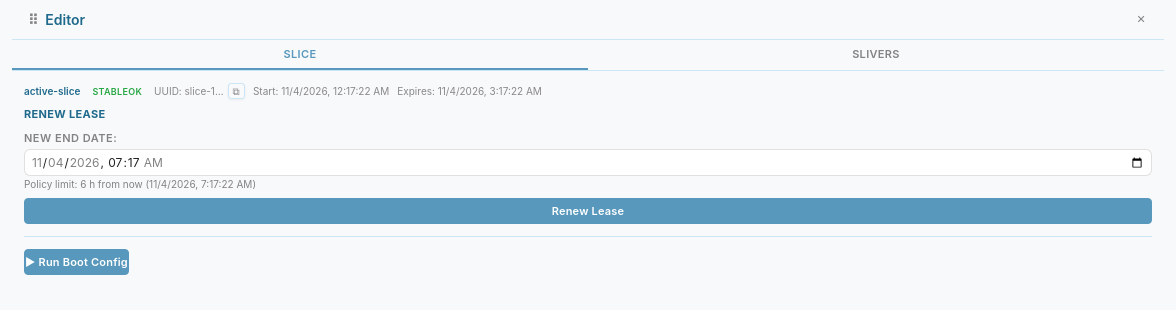
Test case: EditorPanel lease renew panel › reports a policy clamp rather than a plain success
Click the button "Renew Lease" at (588, 211), box [24,198,1152,224]
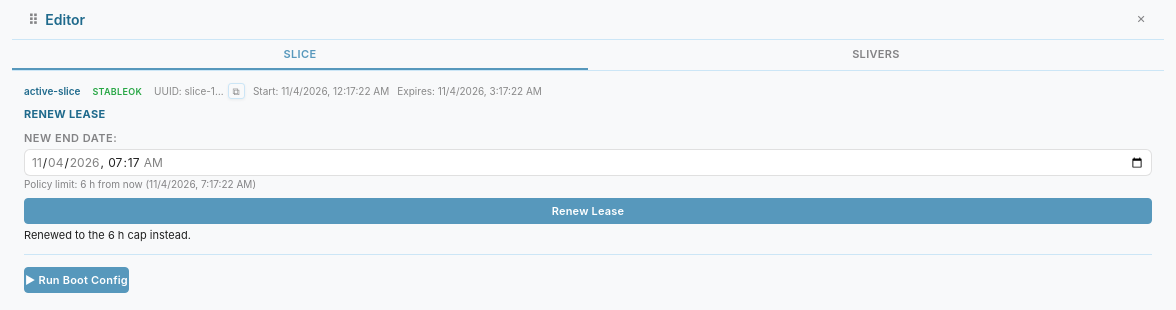
Expected: the text "Renewed to the 6 h cap instead." is shown, [24,228,191,242]
